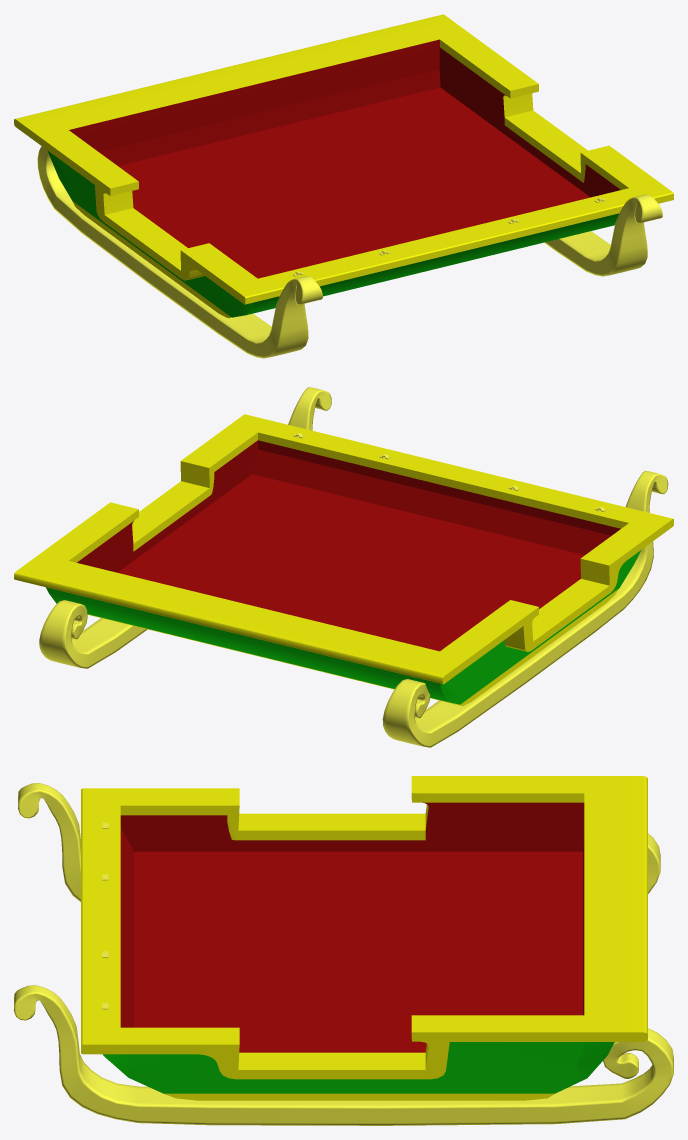
File: Sori.fbx
The picture shows the model from 3 angles, top to bottom: view 1: azimuth 30°, elevation 25°; view 2: azimuth 150°, elevation 25°; view 3: azimuth 270°, elevation 25°; orthographic projection. The views are drawn at different scales.
Parts seen in each view (by area): view 1: pCube18; view 2: pCube18; view 3: pCube18.
Part boxes in pixels (bbox=[...]): pCube18: bbox=[14, 14, 673, 358]; pCube18: bbox=[14, 387, 673, 747]; pCube18: bbox=[14, 776, 673, 1125].
Size of the model in its own units: 1220 by 285 by 1328.
